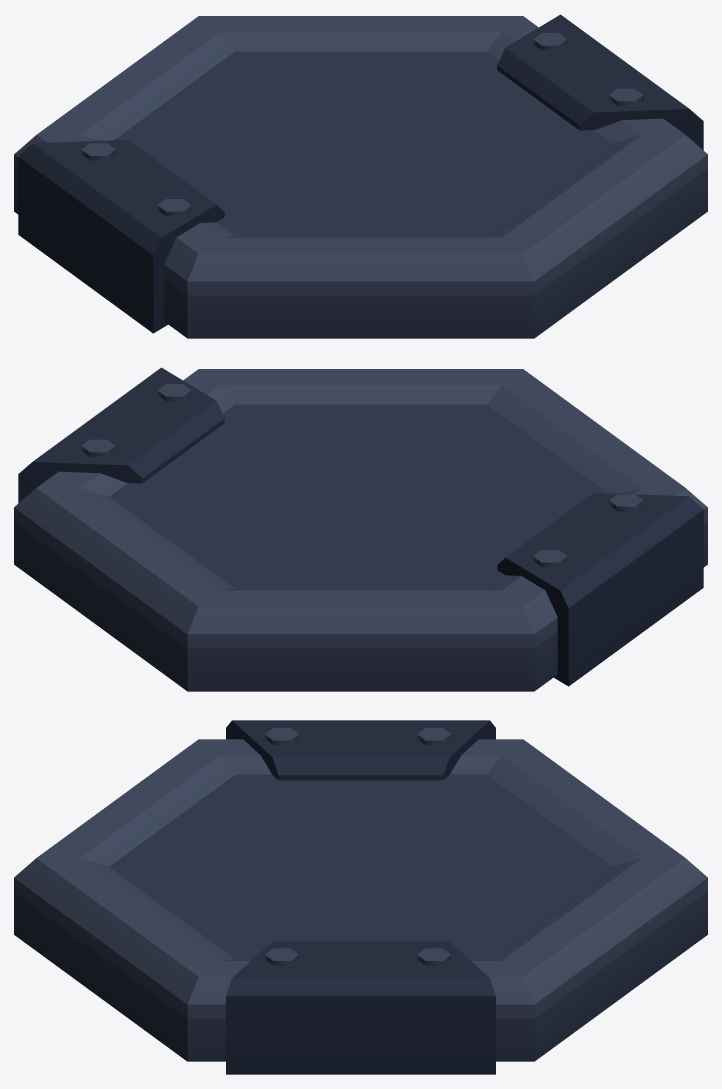
File: Hexagon 02.FBX
The picture shows the model from 3 angles, top to bottom: view 1: azimuth 30°, elevation 25°; view 2: azimuth 150°, elevation 25°; view 3: azimuth 270°, elevation 25°; orthographic projection.
Visible parts, largest first — view 1: Hexagon 02; view 2: Hexagon 02; view 3: Hexagon 02.
Boxes of the visible parts, x1,y1,x2,y2 form: Hexagon 02: (14, 14, 707, 338); Hexagon 02: (14, 367, 707, 691); Hexagon 02: (14, 720, 707, 1074).
Size of the model in its own units: 296 by 49.28 by 323.
Materials: 1 (1 with a texture image).
